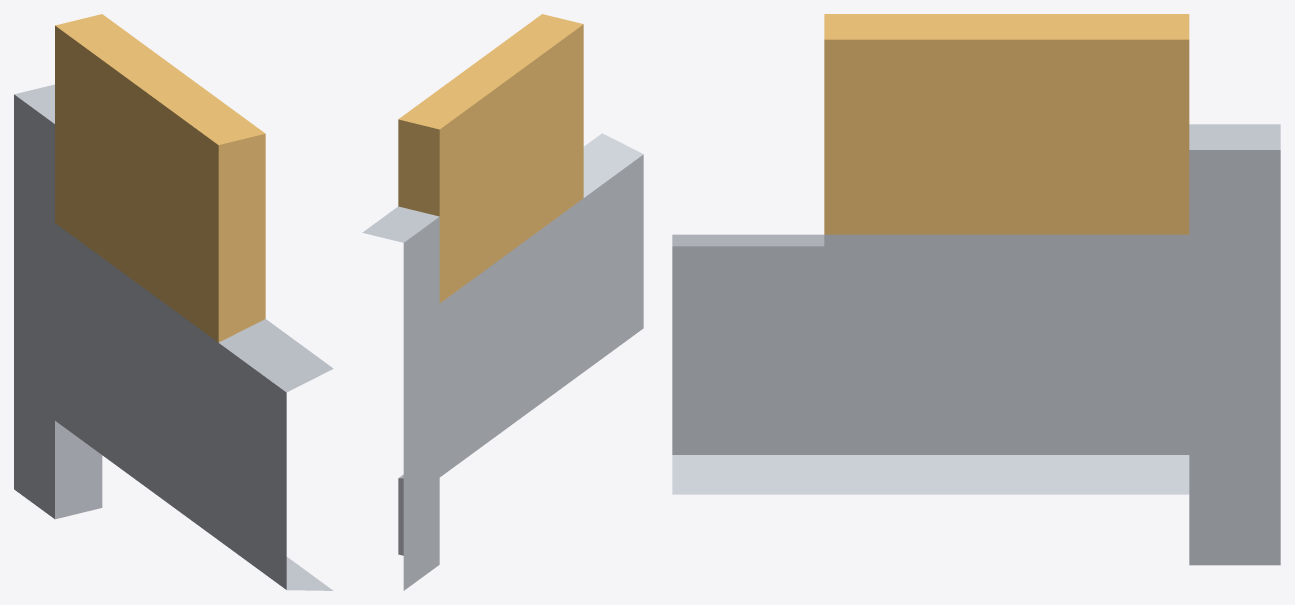
3 views of the same model, side by side, from view 1: azimuth 30°, elevation 25°; view 2: azimuth 150°, elevation 25°; view 3: azimuth 270°, elevation 25° (orthographic). The views are drawn at different scales.
Size of the model in its own units: 0.1 by 1 by 1.
